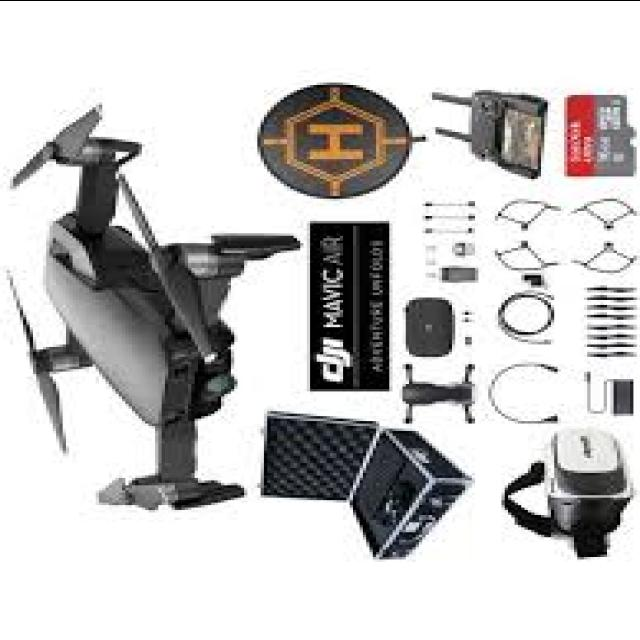drone: (1, 95, 314, 522)
